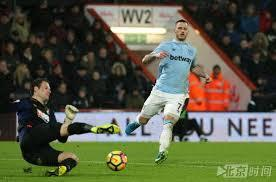down: (15, 78, 113, 176)
up: (121, 14, 206, 167)
